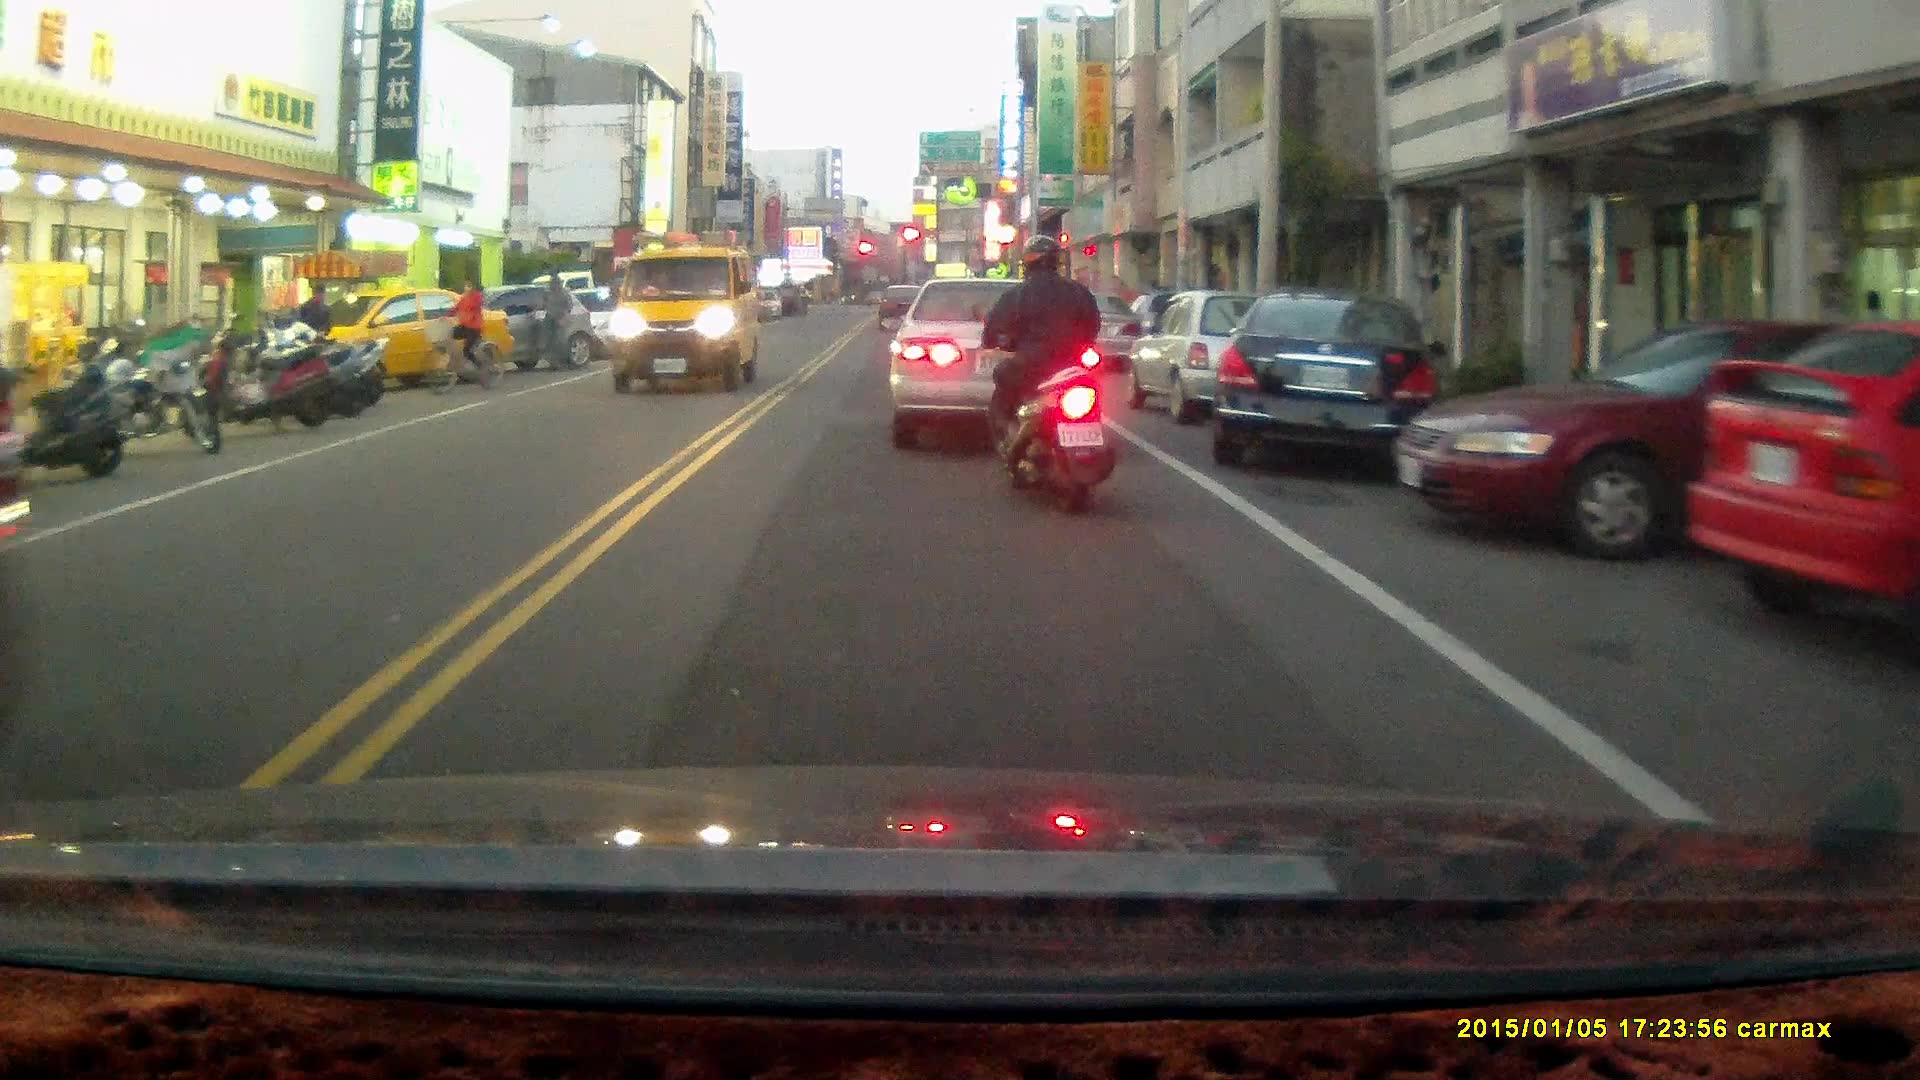pedestrian: (537, 272, 573, 373), (294, 283, 333, 373)
rider: (967, 231, 1120, 521), (418, 277, 506, 401)
vehicle: (1408, 316, 1885, 568), (1692, 320, 1920, 653), (1209, 290, 1448, 474), (893, 270, 1107, 440), (1121, 289, 1319, 431), (609, 238, 758, 395), (323, 288, 517, 388)
